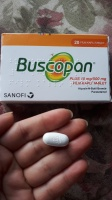Centik Buskopan: (42, 131, 70, 148)
